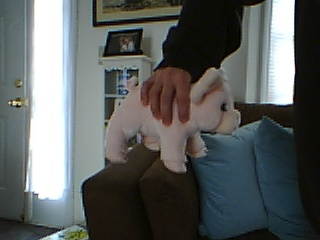piggy: (105, 66, 241, 174)
